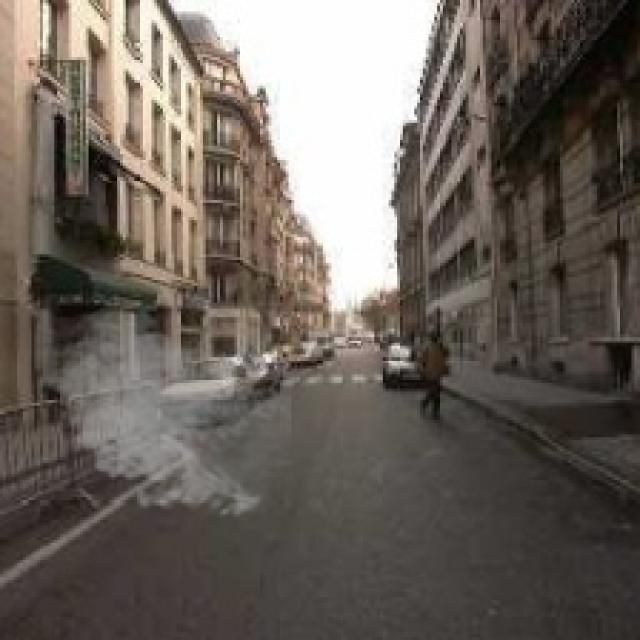Smoke: (40, 300, 292, 523)
